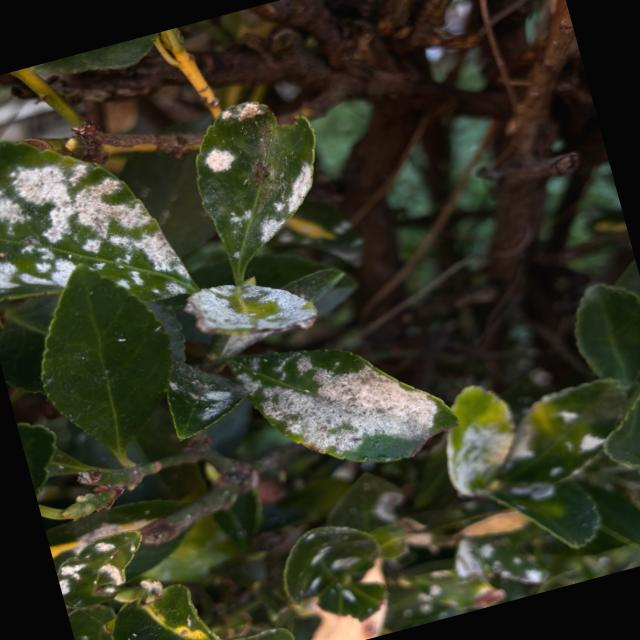powdery_mildew: (0, 141, 196, 301), (228, 349, 457, 461), (196, 102, 315, 284), (184, 284, 316, 335)
